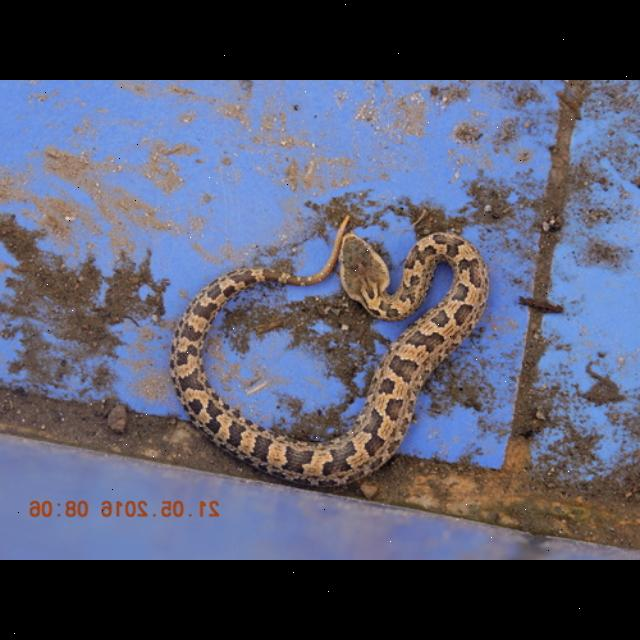snake: (166, 208, 489, 497)
